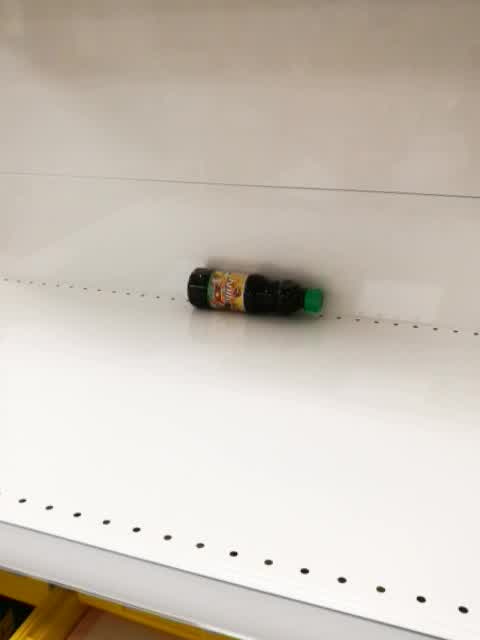cookingoil: (184, 264, 325, 319)
